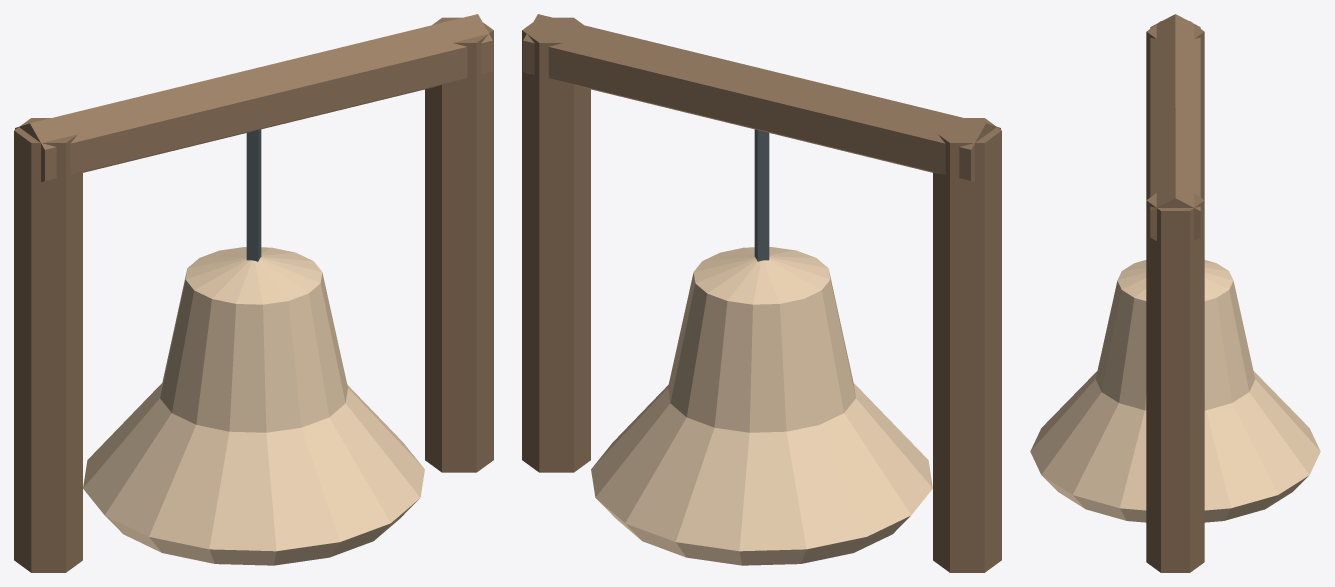
The model's file is fog_bell.glb.
3 views of the same model, side by side, from view 1: azimuth 30°, elevation 25°; view 2: azimuth 150°, elevation 25°; view 3: azimuth 270°, elevation 25° (orthographic). The views are drawn at different scales.
Visible parts, largest first — view 1: Bell, Support, Support.001, Hanger, Chain; view 2: Bell, Support, Support.001, Hanger, Chain; view 3: Bell, Support.001, Hanger, Support.
Boxes of the visible parts, <box> form: Bell: <box>83,247,424,565</box>; Support: <box>14,118,82,572</box>; Support.001: <box>425,17,493,472</box>; Hanger: <box>15,14,492,182</box>; Chain: <box>246,129,261,261</box>; Bell: <box>591,247,932,565</box>; Support: <box>933,118,1001,572</box>; Support.001: <box>522,17,590,472</box>; Hanger: <box>523,14,1000,182</box>; Chain: <box>754,129,769,261</box>; Bell: <box>1030,260,1320,522</box>; Support.001: <box>1146,193,1204,572</box>; Hanger: <box>1150,14,1200,240</box>; Support: <box>1146,21,1204,199</box>.
Bounding box in the file's own units: 1.24 × 1.13 × 0.8.
